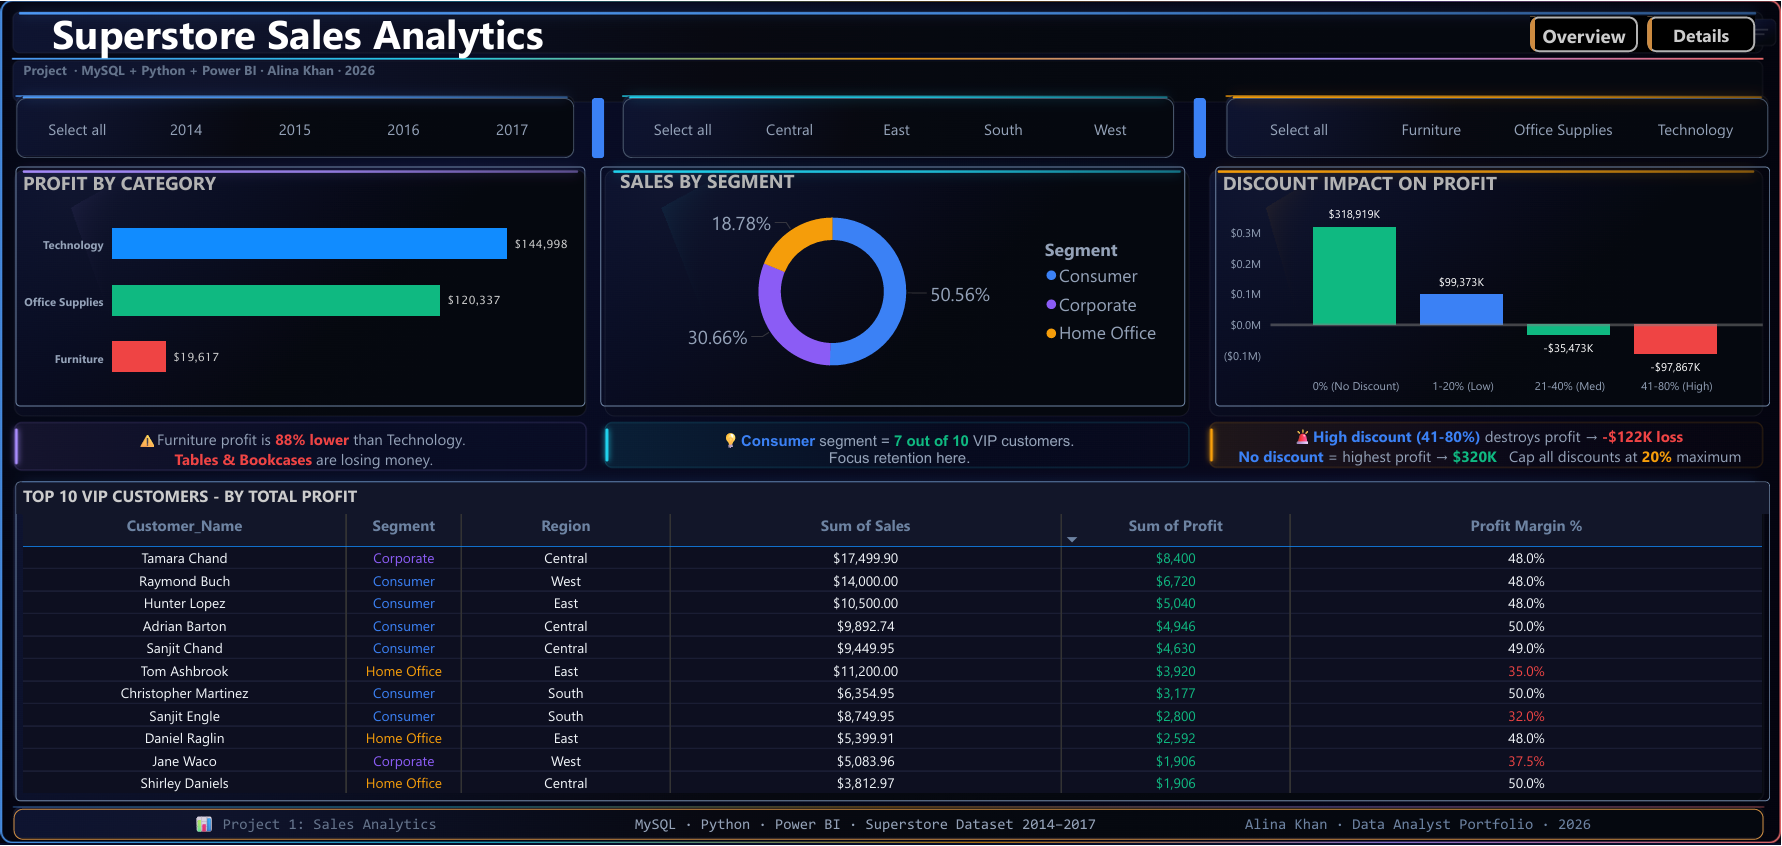

What the dashboard file says about the page in this screenshot:
{"tool":"powerbi","page":{"name":"Details","canvas":[1900,900],"ordinal":2},"visuals":[{"type":"textbox","box":[50,0,553.1,67],"z":0},{"type":"textbox","box":[14,58,400,37],"z":1000},{"type":"shape","box":[631.2,103.1,12.5,64.1],"z":7000},{"type":"textbox","box":[14.1,861,1867.2,33],"z":8000},{"type":"advancedSlicerVisual","fields":{"Values":["Superstore_clean_csv.Order_Date.Variation.Date Hierarchy.Year"]},"box":[17.2,100,595,63],"z":9000},{"type":"advancedSlicerVisual","fields":{"Values":["Superstore_clean_csv.Region"]},"box":[660,100,592,63],"z":10000},{"type":"advancedSlicerVisual","fields":{"Values":["Superstore_clean_csv.Category"]},"box":[1308,100,578,63],"z":11000},{"type":"shape","box":[1273,103.1,12.5,64.1],"z":12000},{"type":"donutChart","title":"SALES BY SEGMENT","fields":{"Category":["Superstore_Messy_1.Segment"],"Y":["Sum(Superstore_Messy_1.Sales)"]},"box":[640,180,624,256],"z":13000},{"type":"clusteredBarChart","title":"PROFIT BY CATEGORY","fields":{"Category":["Superstore_Messy_1.Category"],"Y":["Sum(Superstore_Messy_1.Profit)"]},"box":[16,180,608,256],"z":14000},{"type":"clusteredColumnChart","title":"DISCOUNT IMPACT ON PROFIT","fields":{"Category":["Superstore_Messy_1.Discount Range"],"Y":["Sum(Superstore_clean_csv.Profit)"]},"box":[1296,180,592,256],"z":15000},{"type":"tableEx","title":"TOP 10 VIP CUSTOMERS - BY TOTAL PROFIT","fields":{"Values":["Superstore_clean_csv.Customer_Name","Superstore_clean_csv.Segment","Superstore_clean_csv.Region","Sum(Superstore_clean_csv.Sales)","Sum(Superstore_clean_csv.Profit)","Superstore_clean_csv.Profit Margin %"]},"box":[16,512,1872,341],"z":16000},{"type":"textbox","box":[645.3,451.6,623.4,48.4],"z":17000},{"type":"textbox","box":[15.6,451,610.9,51],"z":18000},{"type":"textbox","box":[1296,448,586,48],"z":19000},{"type":"pageNavigator","box":[1632,16,240,38],"z":21500}]}

Visuals, with their boxes in screenshot pixels (x1, y1, x2, y2), scaled from the page's 1900x900 canvas onto the 1782x846 screenshot:
textbox: {"left": 47, "top": 0, "right": 566, "bottom": 63}
textbox: {"left": 13, "top": 55, "right": 388, "bottom": 89}
shape: {"left": 592, "top": 97, "right": 604, "bottom": 157}
textbox: {"left": 13, "top": 809, "right": 1764, "bottom": 840}
advancedSlicerVisual - Superstore_clean_csv.Order_Date.Variation.Date Hierarchy.Year: {"left": 16, "top": 94, "right": 574, "bottom": 153}
advancedSlicerVisual - Superstore_clean_csv.Region: {"left": 619, "top": 94, "right": 1174, "bottom": 153}
advancedSlicerVisual - Superstore_clean_csv.Category: {"left": 1227, "top": 94, "right": 1769, "bottom": 153}
shape: {"left": 1194, "top": 97, "right": 1206, "bottom": 157}
"SALES BY SEGMENT" donutChart: {"left": 600, "top": 169, "right": 1185, "bottom": 410}
"PROFIT BY CATEGORY" clusteredBarChart: {"left": 15, "top": 169, "right": 585, "bottom": 410}
"DISCOUNT IMPACT ON PROFIT" clusteredColumnChart: {"left": 1216, "top": 169, "right": 1771, "bottom": 410}
"TOP 10 VIP CUSTOMERS - BY TOTAL PROFIT" tableEx: {"left": 15, "top": 481, "right": 1771, "bottom": 802}
textbox: {"left": 605, "top": 425, "right": 1190, "bottom": 470}
textbox: {"left": 15, "top": 424, "right": 588, "bottom": 472}
textbox: {"left": 1216, "top": 421, "right": 1765, "bottom": 466}
pageNavigator: {"left": 1531, "top": 15, "right": 1756, "bottom": 51}
